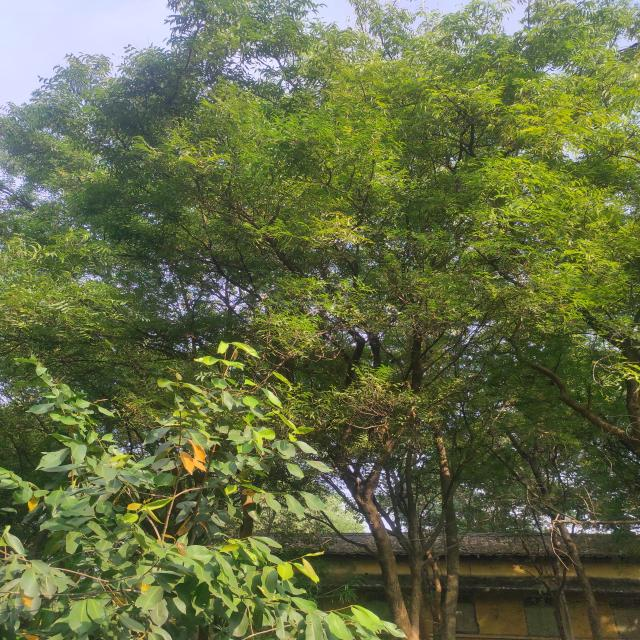Neem Tree: (73, 61, 606, 370)
